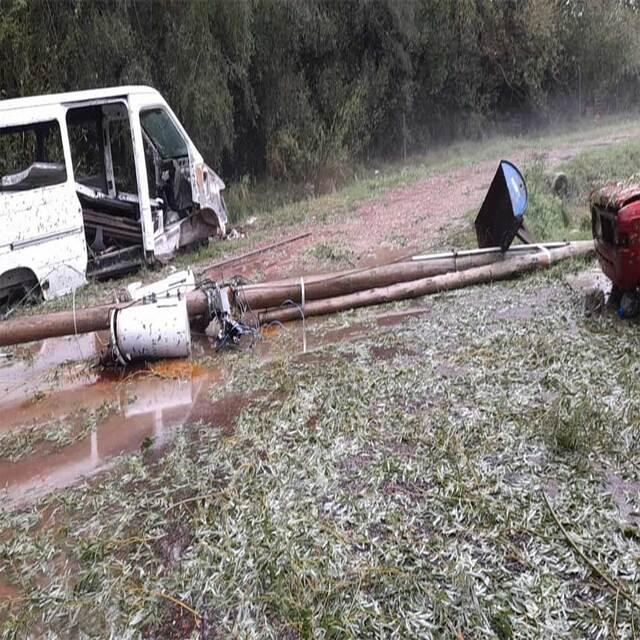Inclined Pole: (0, 230, 599, 372)
